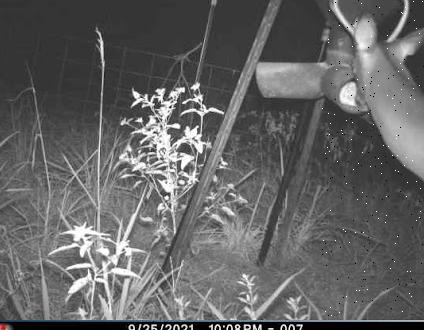Deer: (322, 0, 424, 319)
